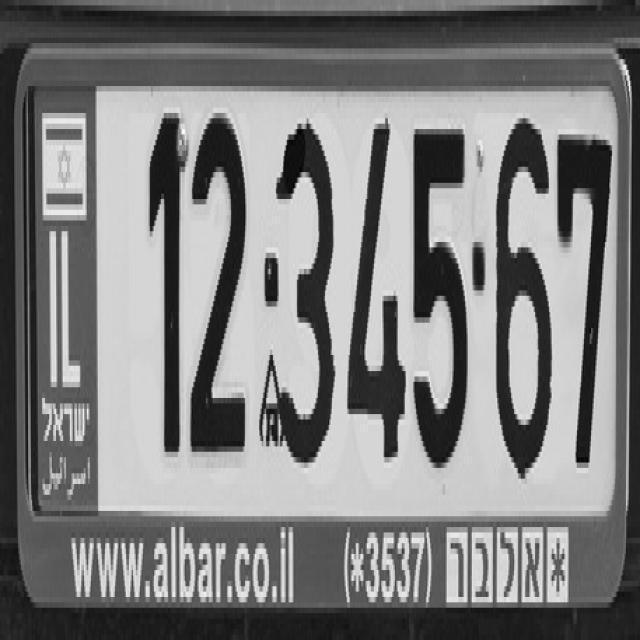LicensePlate: (9, 2, 638, 629)
